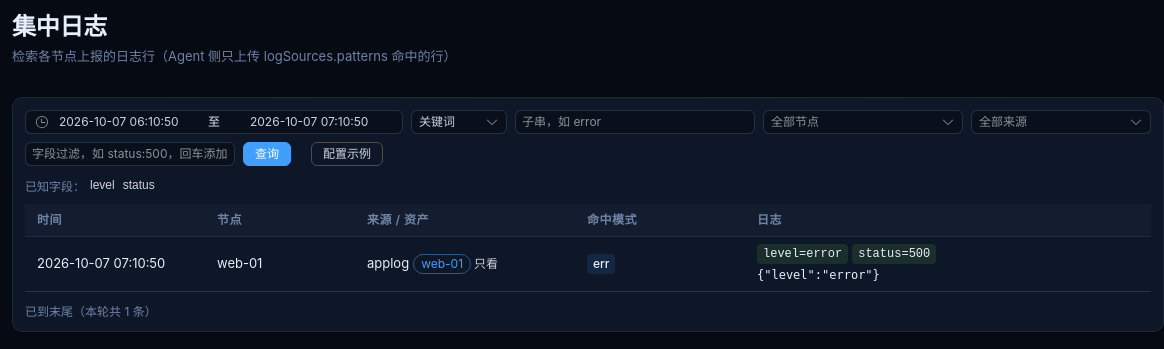
it: LogsView 结构化字段检索 › 候选字段只列服务端见过的名字，点击后填入输入框
Click the button "status" at (139, 185), box x1=120 y1=176 x2=158 y2=194
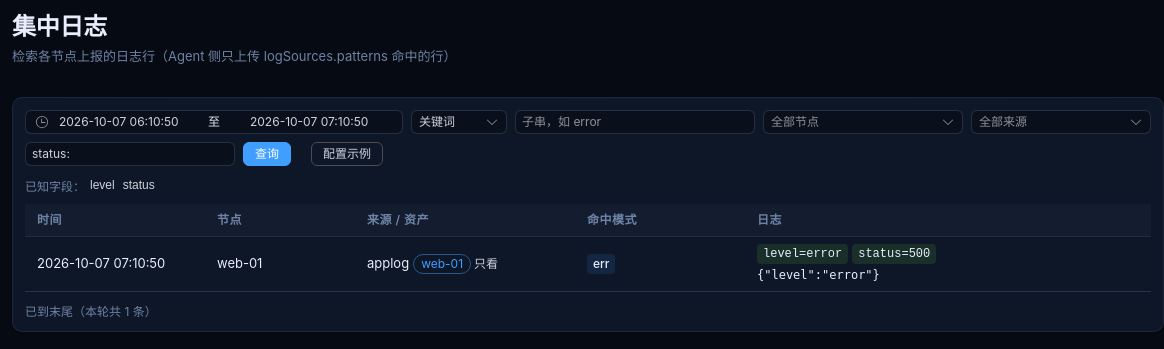
Expected: the 2nd field holds "status:", x1=32 y1=143 x2=228 y2=165
